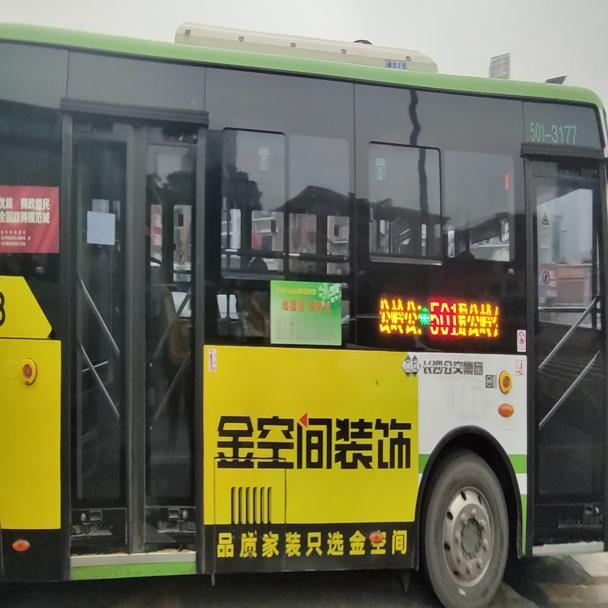bus: (0, 22, 606, 603)
screen: (430, 302, 458, 334)
